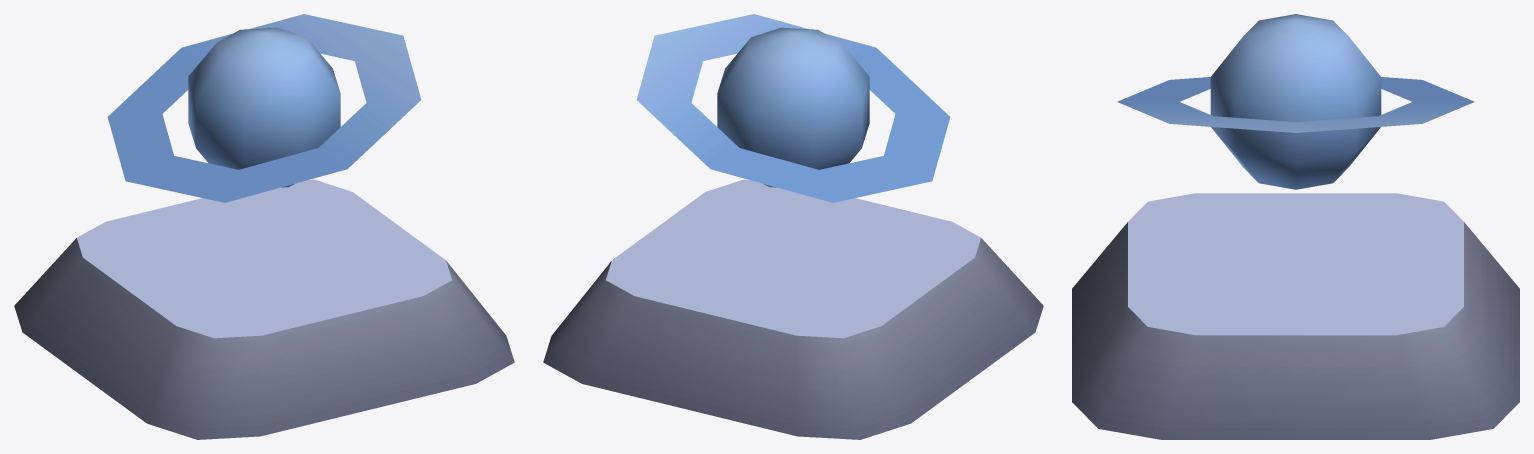
File: table-display-planet.glb
The picture shows the model from 3 angles, left to right: view 1: azimuth 30°, elevation 25°; view 2: azimuth 150°, elevation 25°; view 3: azimuth 270°, elevation 25°; orthographic projection. The views are drawn at different scales.
Parts seen in each view (by area): view 1: table-display-planet, planet-ring, planet; view 2: table-display-planet, planet-ring, planet; view 3: table-display-planet, planet, planet-ring.
Part boxes in pixels (x1,y1,x2,y2): table-display-planet: [14, 179, 514, 439]; planet-ring: [107, 14, 421, 202]; planet: [188, 27, 340, 187]; table-display-planet: [543, 179, 1043, 439]; planet-ring: [636, 14, 950, 202]; planet: [717, 27, 869, 187]; table-display-planet: [1072, 193, 1519, 439]; planet: [1210, 14, 1381, 189]; planet-ring: [1117, 77, 1474, 132].
Size of the model in its own units: 0.5 by 0.4 by 0.5.
Materials: 1 (1 with a texture image).
